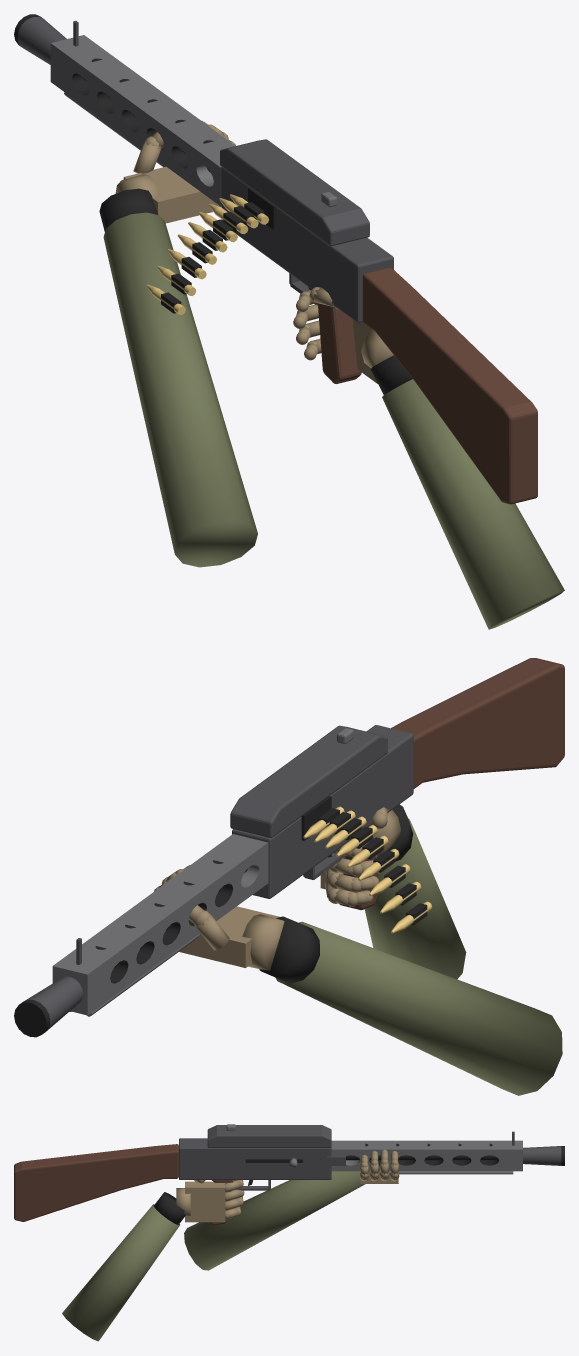
The picture shows the model from 3 angles, top to bottom: view 1: azimuth 30°, elevation 25°; view 2: azimuth 150°, elevation 25°; view 3: azimuth 270°, elevation 25°; orthographic projection. The views are drawn at different scales.
Parts seen in each view (by area): view 1: MG42_Body, MG42_HandLeft, MG42_HandRight, MG42_Cover, MG42_Belt; view 2: MG42_Body, MG42_HandLeft, MG42_HandRight, MG42_Cover, MG42_Belt; view 3: MG42_Body, MG42_HandRight, MG42_HandLeft, MG42_Cover.
Boxes of the visible parts, x1,y1,x2,y2 form: MG42_Body: (14,14,537,504); MG42_HandLeft: (99,120,257,567); MG42_HandRight: (293,287,564,629); MG42_Cover: (220,139,369,245); MG42_Belt: (146,194,268,314); MG42_Body: (14,658,564,1037); MG42_HandLeft: (154,865,562,1095); MG42_HandRight: (320,804,466,979); MG42_Cover: (230,725,387,837); MG42_Belt: (303,806,432,933); MG42_Body: (14,1131,564,1225); MG42_HandRight: (62,1180,244,1341); MG42_HandLeft: (184,1149,399,1270); MG42_Cover: (207,1124,331,1147).
Size of the model in its own units: 0.3737 by 0.4565 by 1.15.
